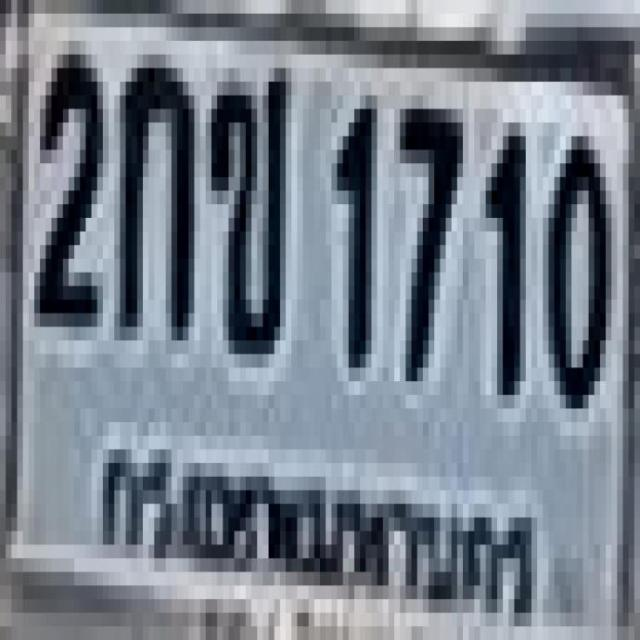0: (542, 123, 604, 395)
1: (330, 85, 370, 356), (481, 111, 518, 386)
2: (34, 44, 98, 314)
7: (395, 97, 456, 370)
A01: (112, 48, 188, 328)
A02: (206, 60, 283, 343)
BKK: (88, 421, 546, 628)
